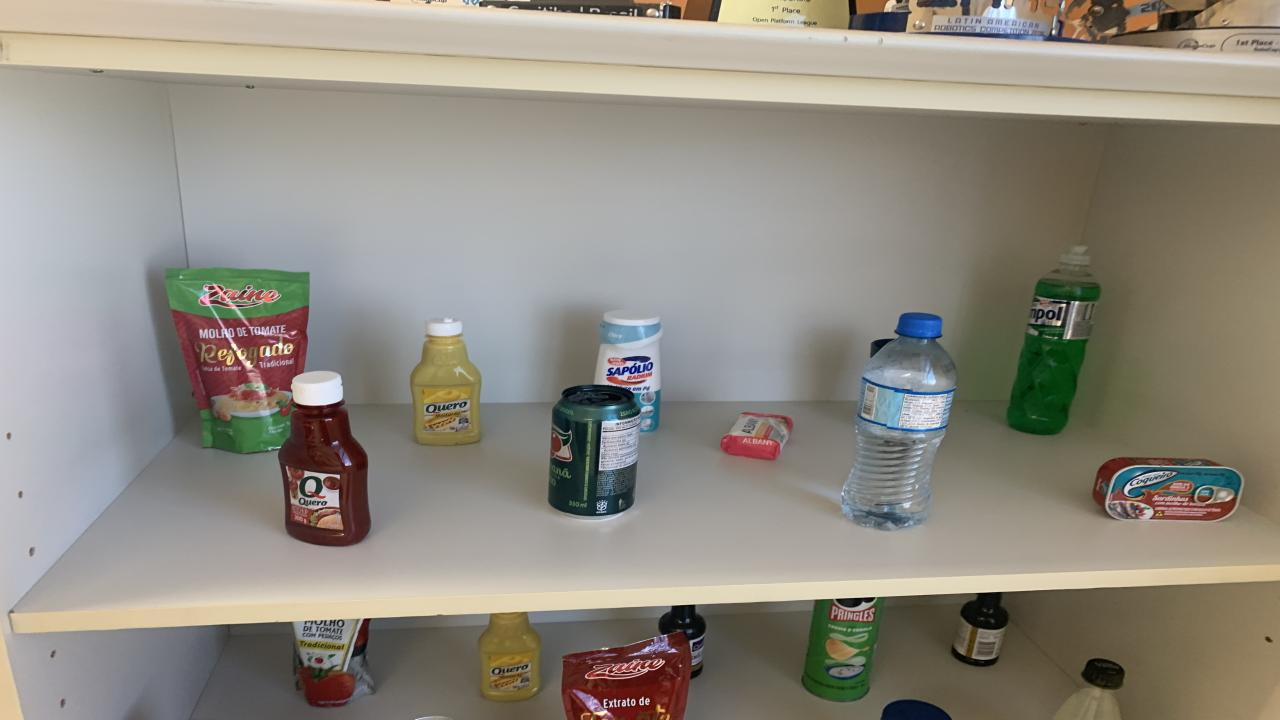Cleaner-Cleanup_Items: (595, 309, 662, 431)
Detergent-Cleanup_Items: (1008, 246, 1100, 435)
English_Sauce-Pantry_Items: (952, 592, 1008, 666), (658, 606, 705, 677)
Guarana_Can-Drinks: (548, 384, 640, 519)
Ketchup-Pantry_Items: (278, 371, 370, 546)
Mayonnaise-Pantry_Items: (882, 699, 952, 720)
Mustard-Pantry_Items: (410, 319, 482, 446), (478, 611, 542, 701)
Pringles-Snacks: (802, 596, 885, 701)
Soap-Cleanup_Items: (720, 412, 792, 459)
Soda-Drinks: (1055, 658, 1125, 720)
Tomato_Sauce-Pantry_Items: (165, 268, 310, 452), (562, 632, 690, 720), (292, 619, 375, 707)
Tuna_Can-Pantry_Items: (1092, 458, 1242, 521)
Water_Bottle-Drinks: (842, 313, 958, 531)
